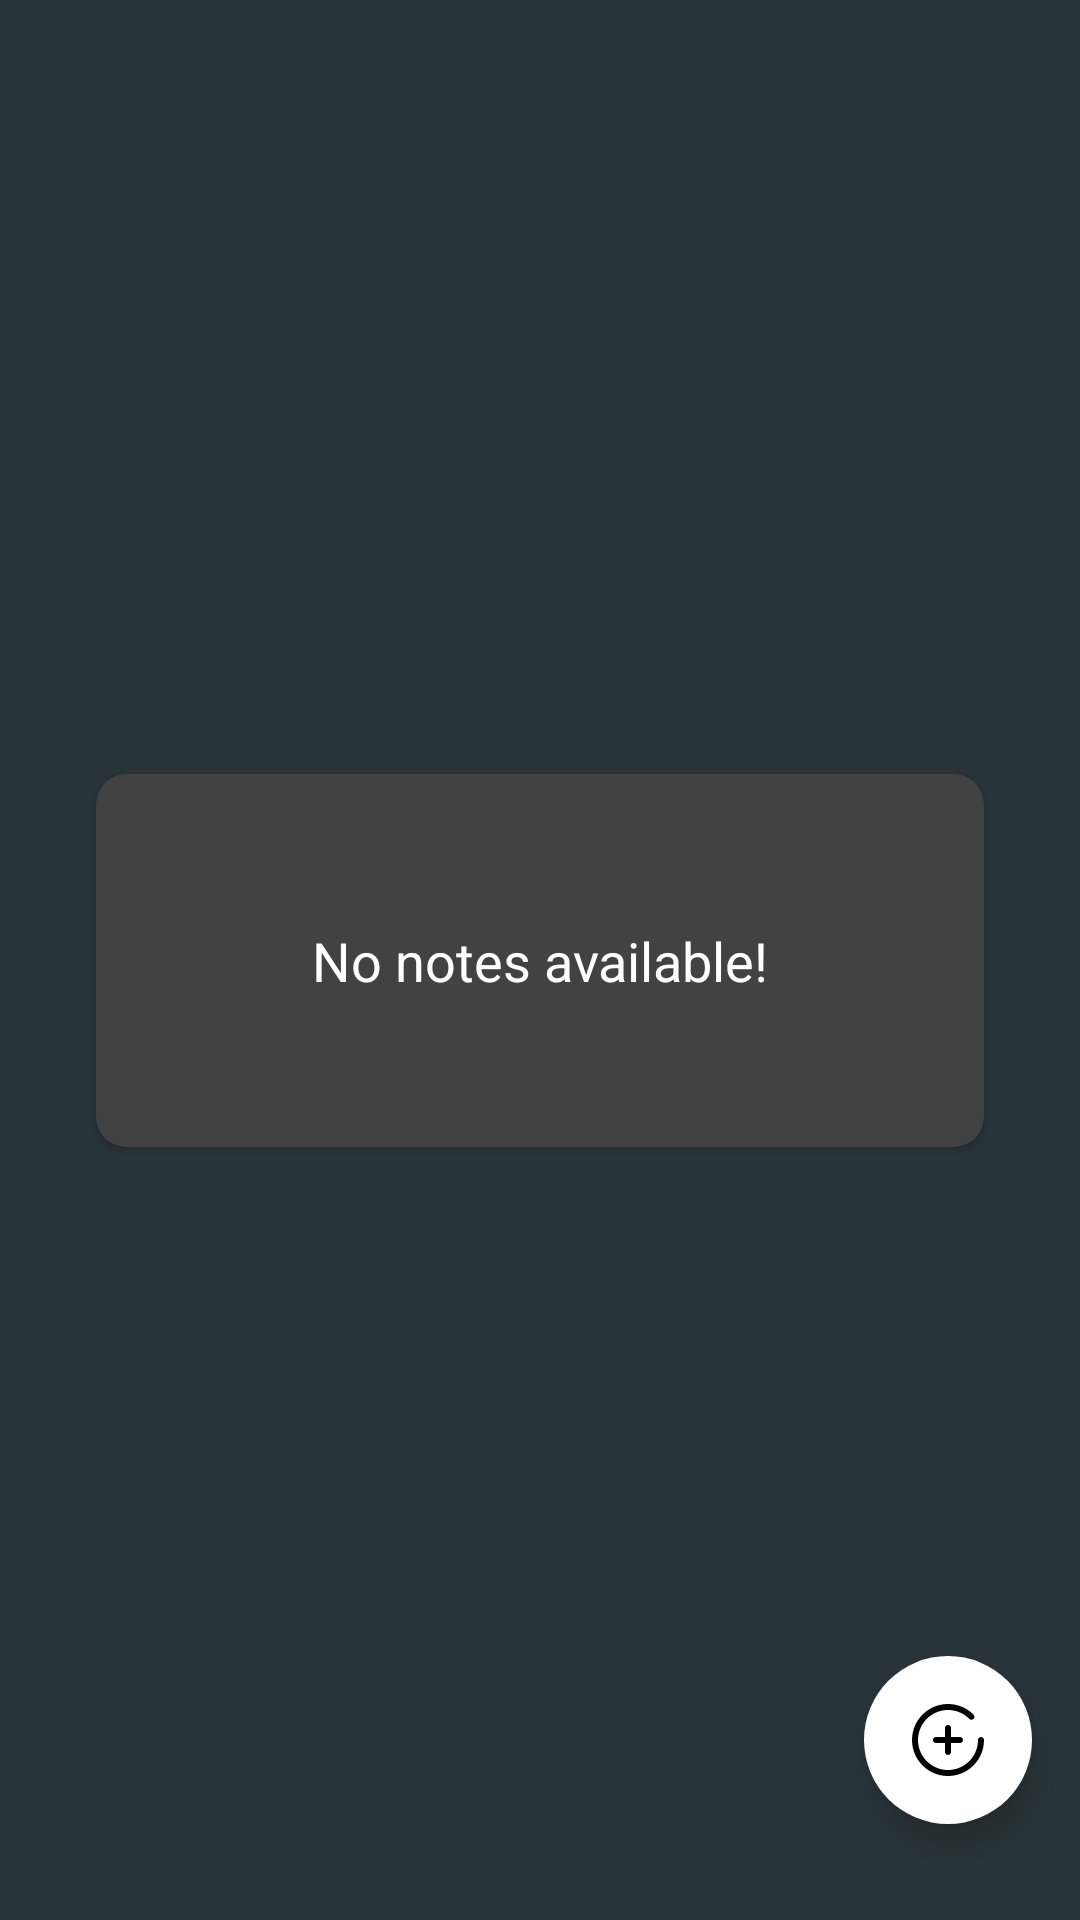

Screen size 1080x1920. Icon name, then its box in pixels as BBox(x1, y1, x2, y2):
add: BBox(864, 1656, 1032, 1824)
